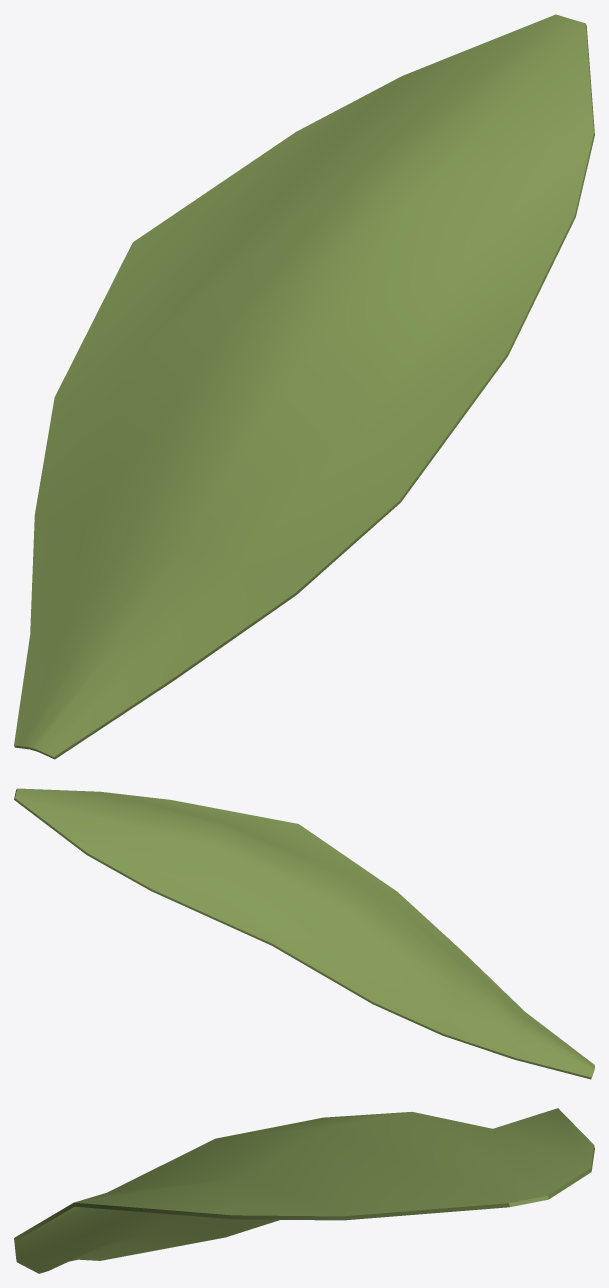
The model's file is leaf.fbx.
The picture shows the model from 3 angles, top to bottom: view 1: azimuth 30°, elevation 25°; view 2: azimuth 150°, elevation 25°; view 3: azimuth 270°, elevation 25°; orthographic projection. The views are drawn at different scales.
Visible parts, largest first — view 1: pPlane8; view 2: pPlane8; view 3: pPlane8.
Boxes of the visible parts, x1,y1,x2,y2 form: pPlane8: [14, 14, 594, 759]; pPlane8: [14, 788, 594, 1079]; pPlane8: [14, 1108, 594, 1273].
Size of the model in its own units: 31.48 by 16.62 by 18.16.
